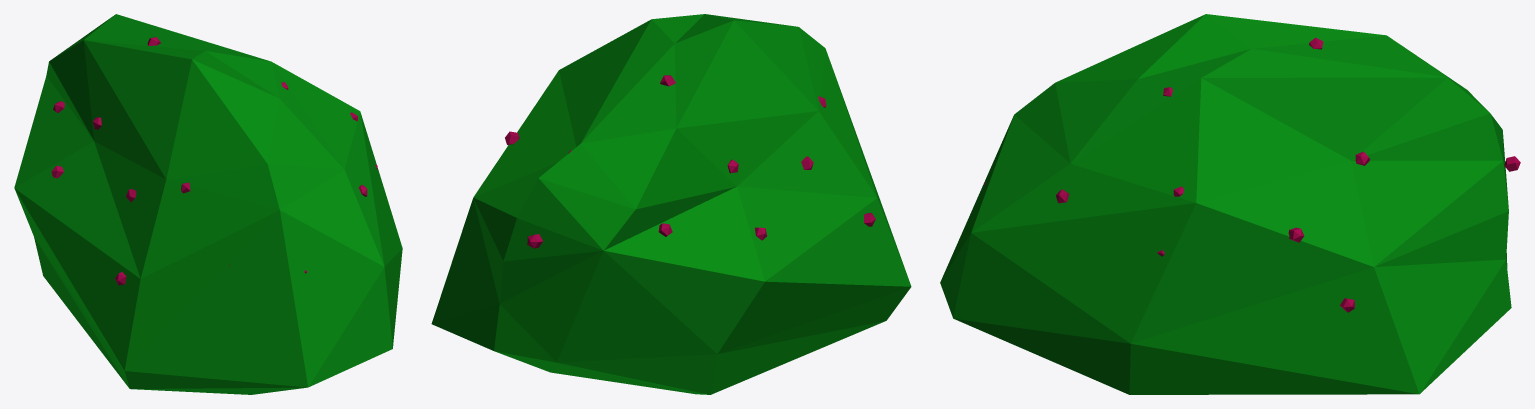
File: SM_SmallBerryBush.fbx
The picture shows the model from 3 angles, left to right: view 1: azimuth 30°, elevation 25°; view 2: azimuth 150°, elevation 25°; view 3: azimuth 270°, elevation 25°; orthographic projection. The views are drawn at different scales.
Visible parts, largest first — view 1: pCylinder2; view 2: pCylinder2; view 3: pCylinder2.
Boxes of the visible parts, <box> form: pCylinder2: <box>14,14,402,394</box>; pCylinder2: <box>431,14,911,394</box>; pCylinder2: <box>940,14,1520,394</box>.
Bounding box in the file's own units: 224 × 208 × 340.
